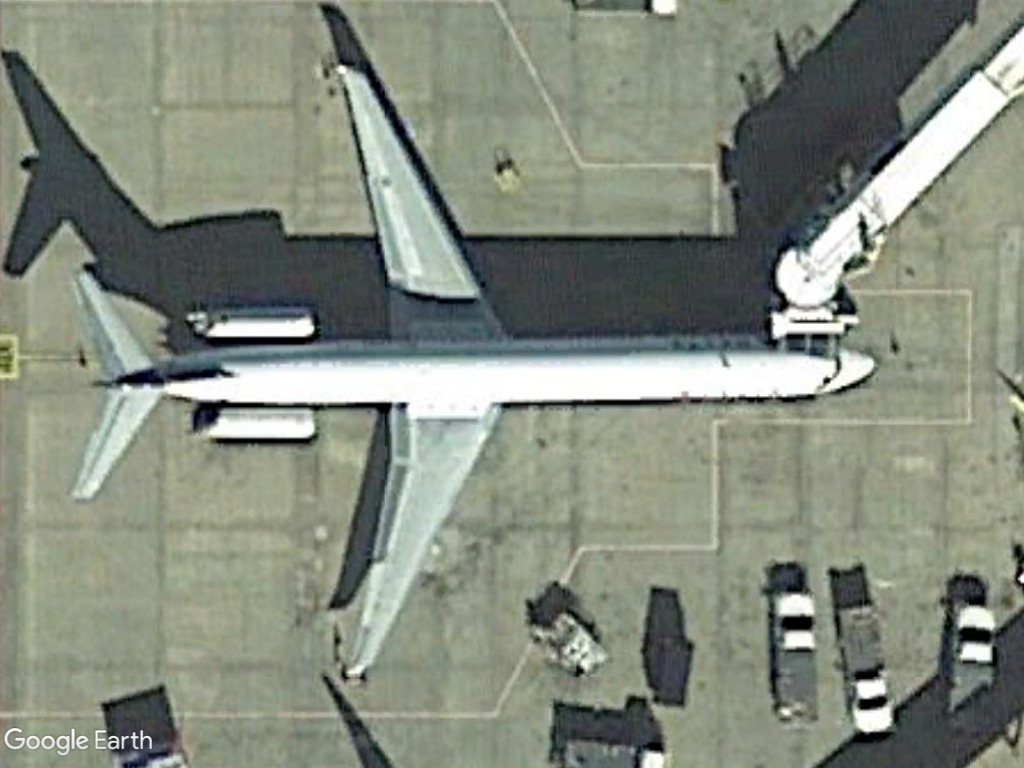chartered: (62, 54, 882, 704)
